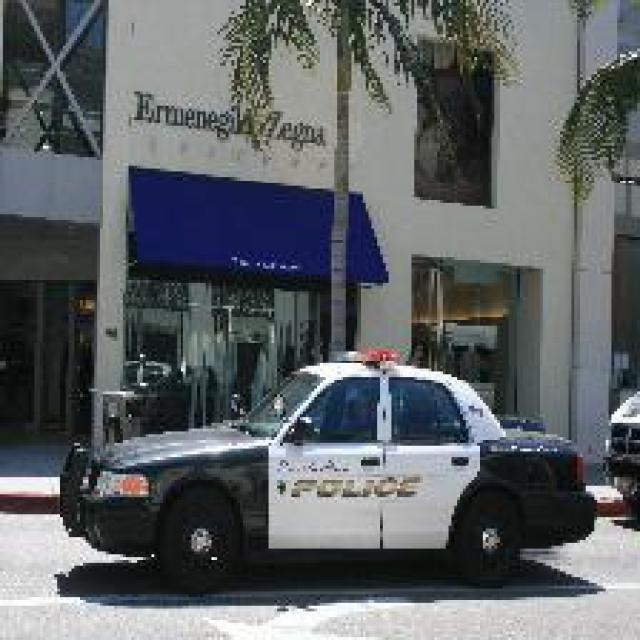emergency: (56, 348, 600, 592)
